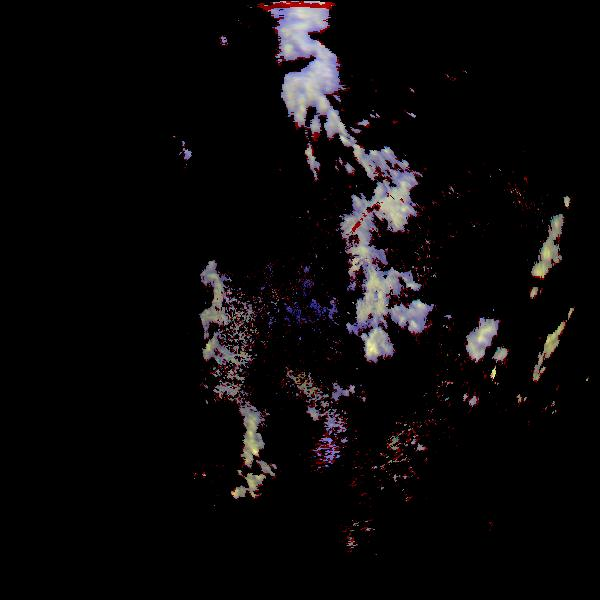roost: (225, 361, 357, 493)
